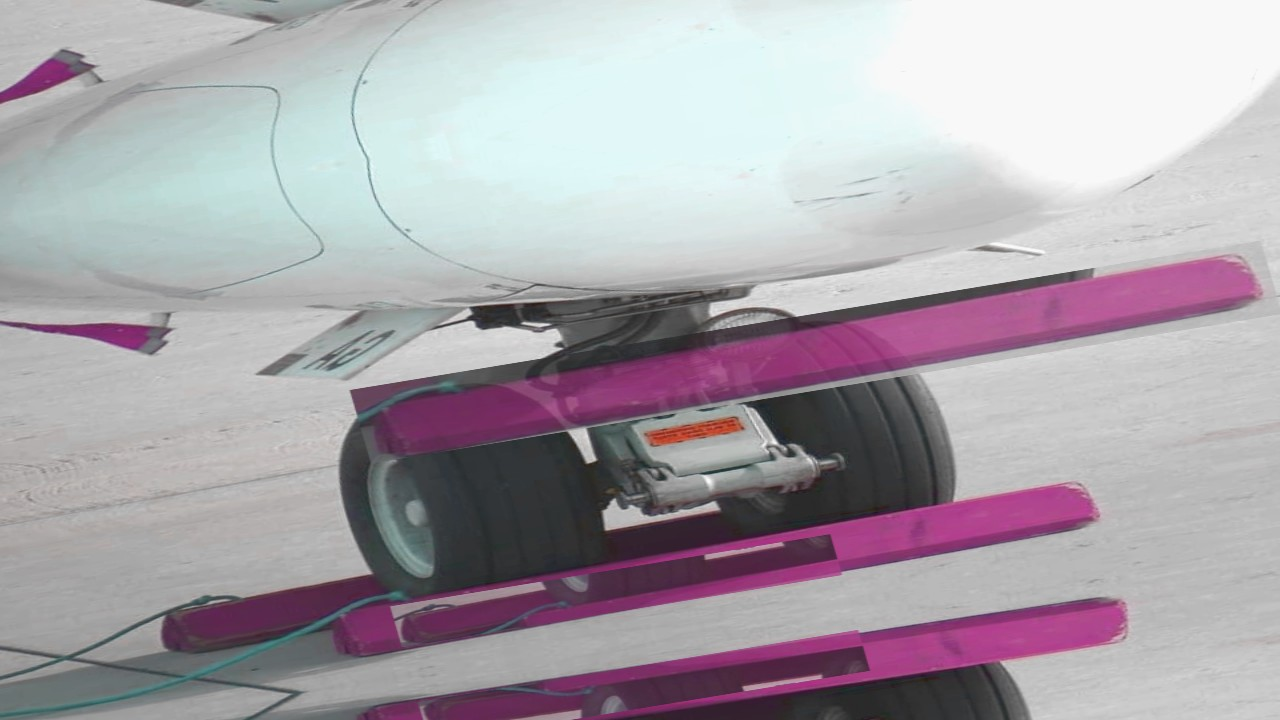chock: (350, 241, 1280, 464), (312, 470, 1115, 663), (345, 582, 1148, 720), (145, 494, 804, 659), (390, 534, 842, 647), (418, 631, 870, 720), (194, 662, 853, 720)
wheel: (314, 365, 621, 607), (682, 301, 970, 539)
